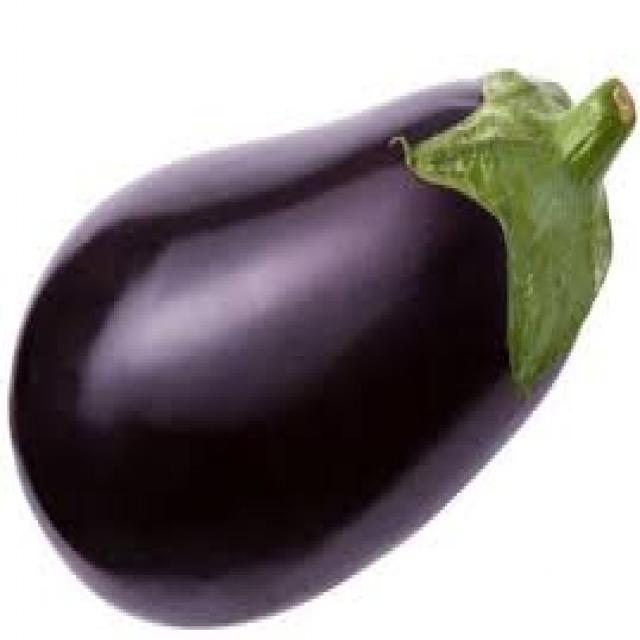organic waste: (7, 68, 638, 623)
